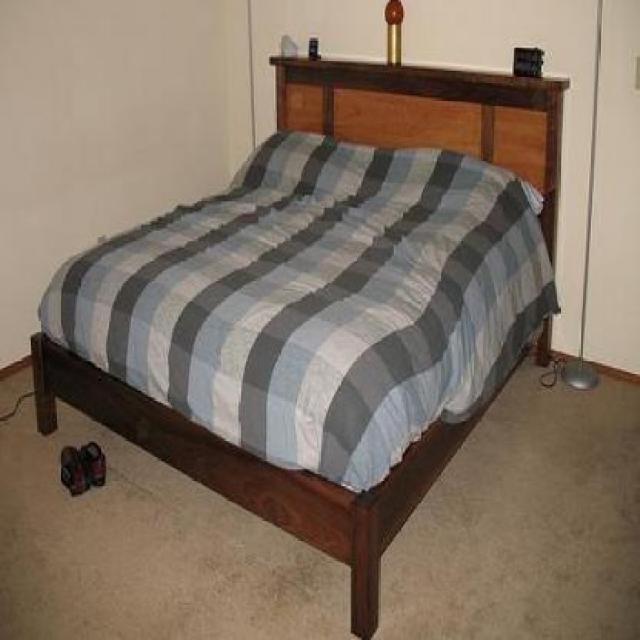Bed: (23, 46, 578, 640)
